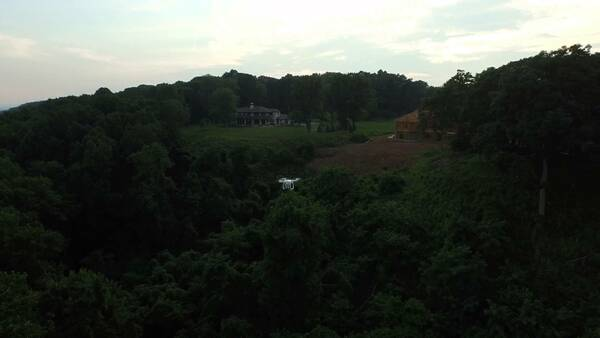drone: (276, 176, 301, 191)
